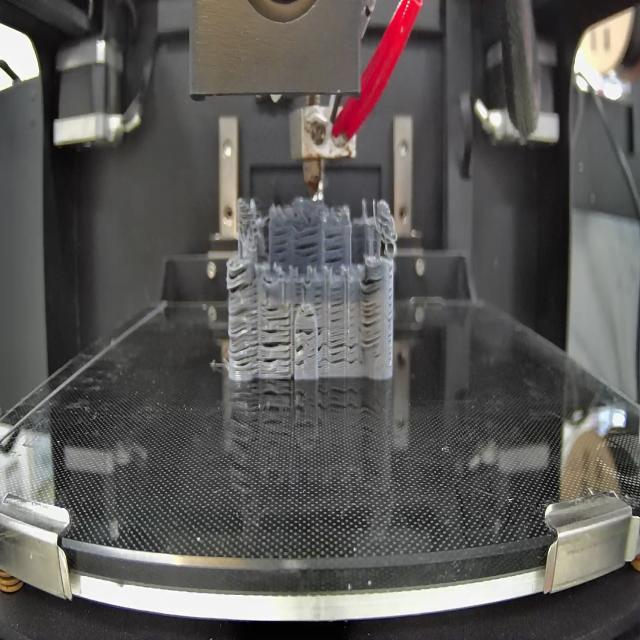cracks: (229, 305, 258, 372), (360, 275, 382, 351), (260, 326, 292, 377), (295, 227, 319, 265), (331, 332, 359, 364), (228, 258, 252, 294), (274, 222, 291, 263), (324, 232, 346, 263), (316, 322, 328, 368), (266, 300, 289, 321), (330, 285, 342, 323), (293, 278, 305, 310), (294, 344, 306, 370), (314, 286, 325, 310), (297, 324, 315, 338), (305, 312, 315, 321)
